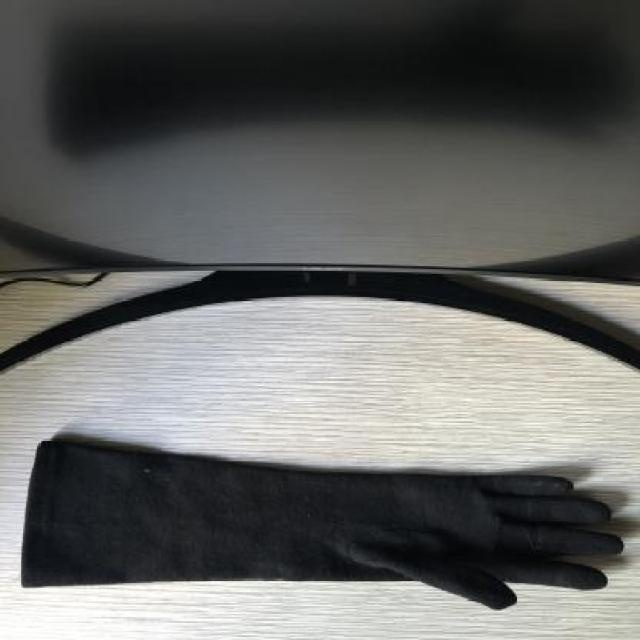Guantes: (20, 431, 624, 611)
